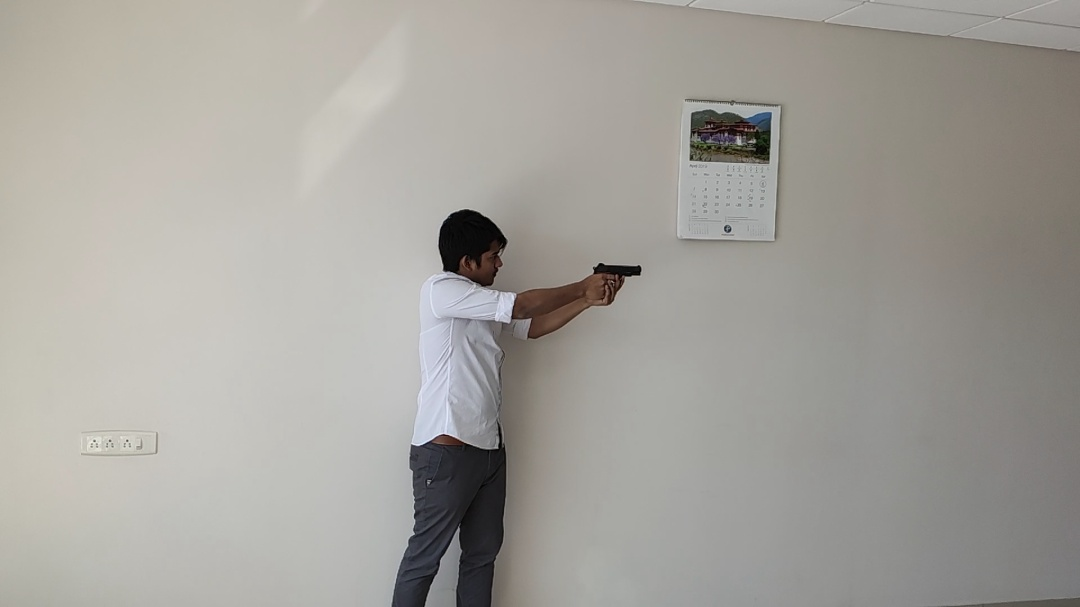gun: (172, 32, 700, 607)
